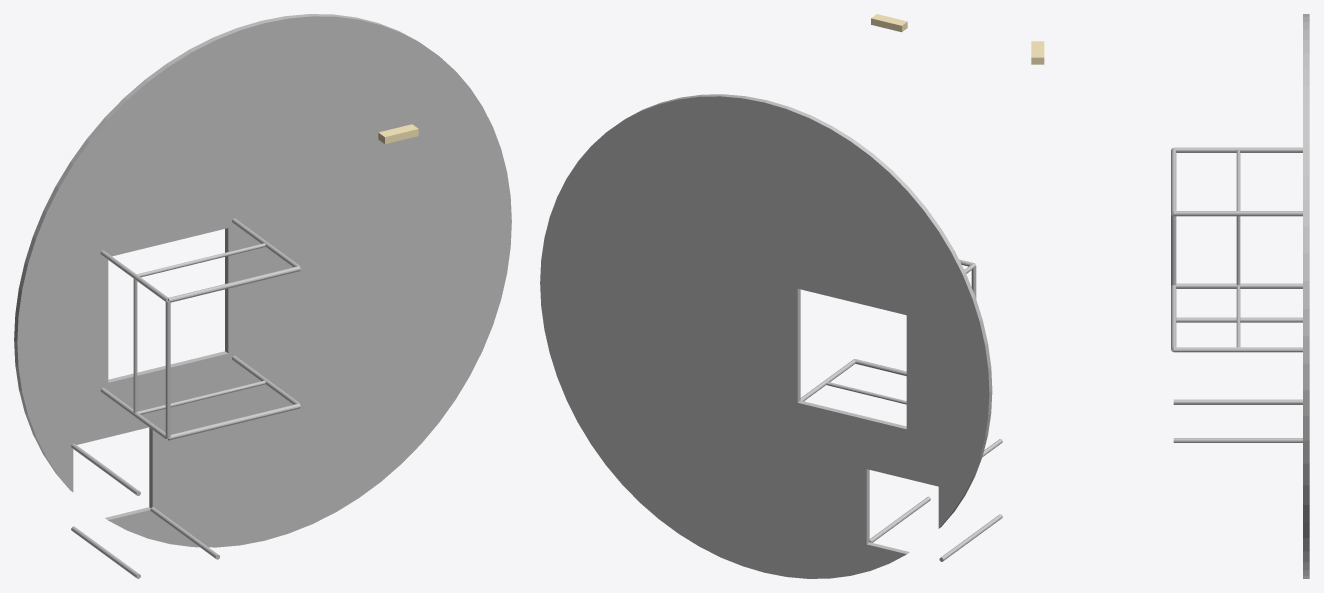
The model's file is platform_3.obj.
3 renders of one model, left to right at view 1: azimuth 30°, elevation 25°; view 2: azimuth 150°, elevation 25°; view 3: azimuth 270°, elevation 25°, orthographic. The views are drawn at different scales.
Parts seen in each view (by area): view 1: platform_3; view 2: platform_3; view 3: platform_3.
Part boxes in pixels (<box>): platform_3: <box>14,14,511,578</box>; platform_3: <box>540,14,1002,578</box>; platform_3: <box>1031,14,1309,578</box>.
Size of the model in its own units: 4.37 by 4.37 by 2.15.
